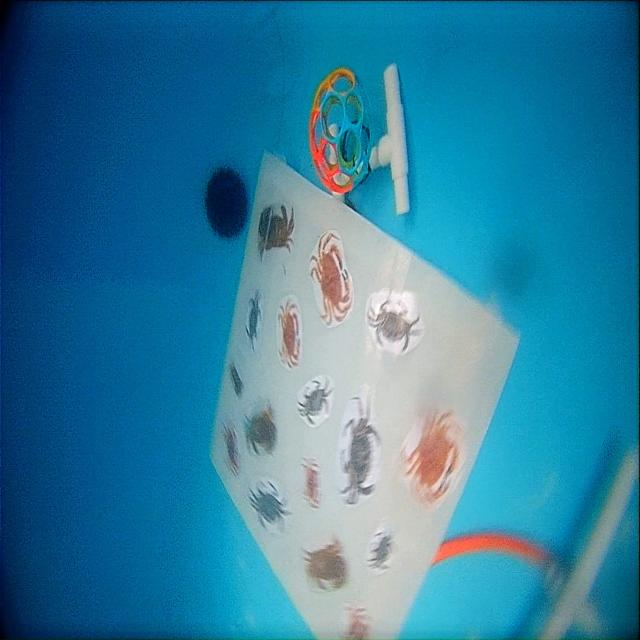GreenCrab: (368, 300, 419, 351), (248, 478, 291, 532), (299, 380, 332, 425), (246, 291, 261, 351)
